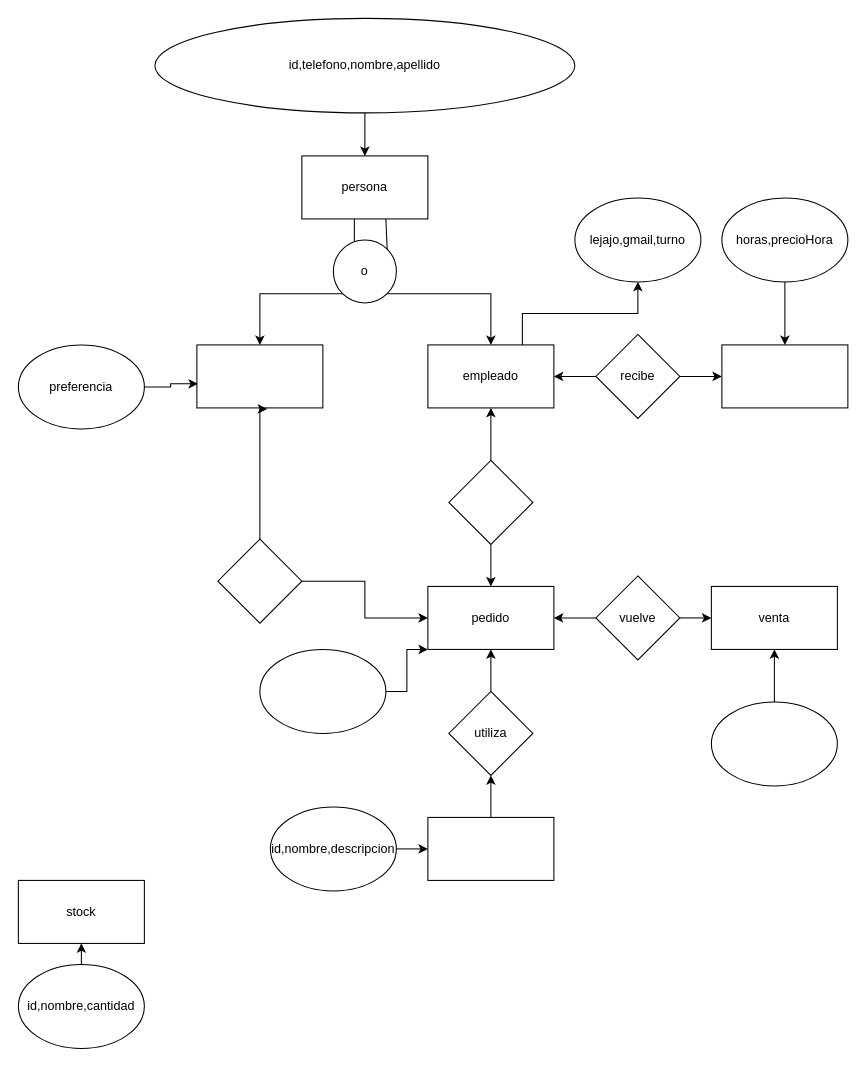
This 866x1067 diagram has some shape labels left out. Here are the shapes that lost their labels. From the top down, the box of each, then its label:
(196, 344, 323, 408): cliente
(721, 344, 848, 408): salario
(448, 459, 533, 544): realiza
(217, 538, 302, 623): elige
(259, 648, 386, 733): id,nombre,montoTotal,medio de pago
(710, 701, 837, 786): id,monto
(427, 816, 554, 880): productos
